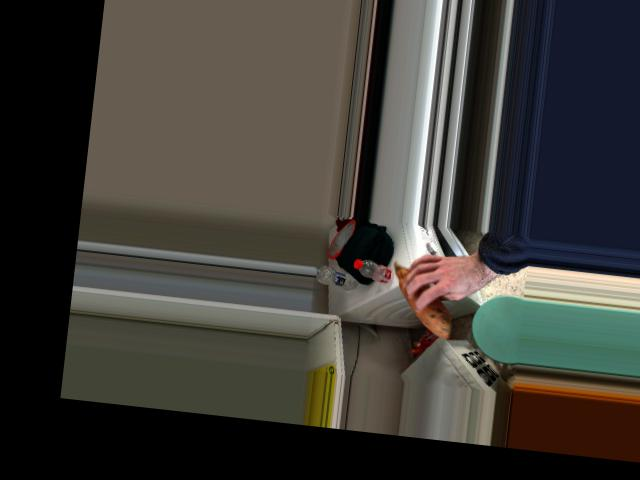sweet_potato: (389, 258, 457, 335)
